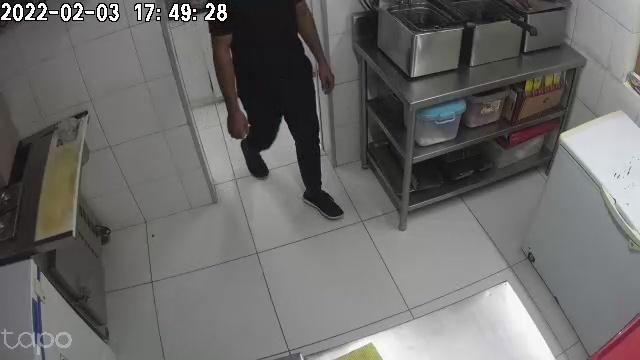no_gloves: (224, 100, 248, 139), (316, 57, 334, 94)
